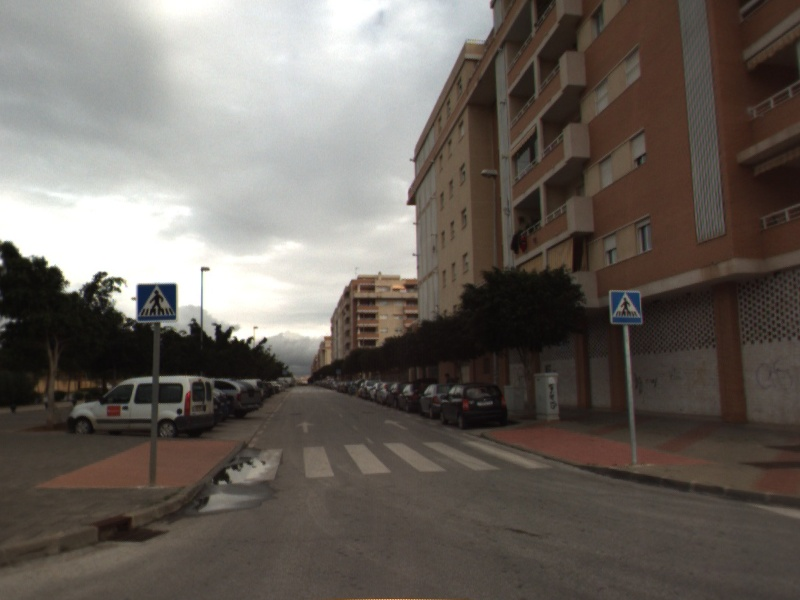STRAIGHT: (382, 417, 411, 432), (294, 419, 316, 434)
